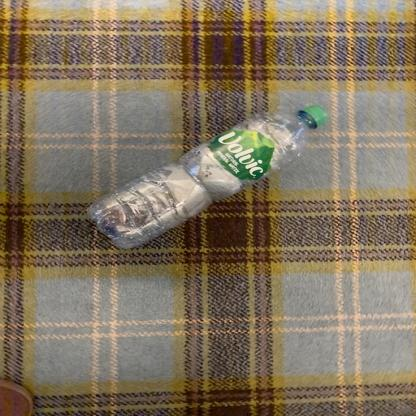trash: (88, 101, 332, 252)
